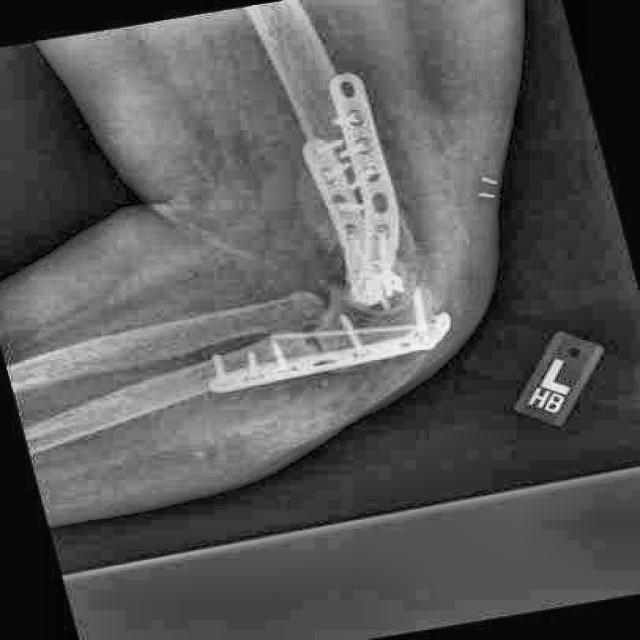elbow positive: (279, 329, 341, 368)
